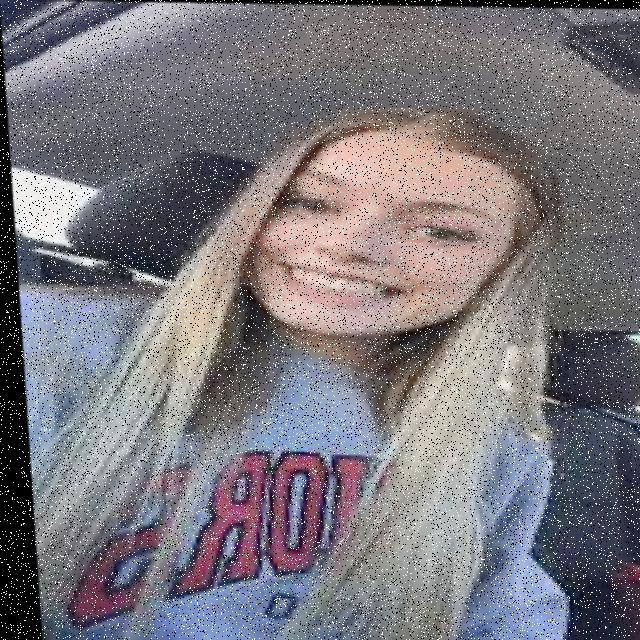noSeatbelt: (19, 280, 568, 640)
